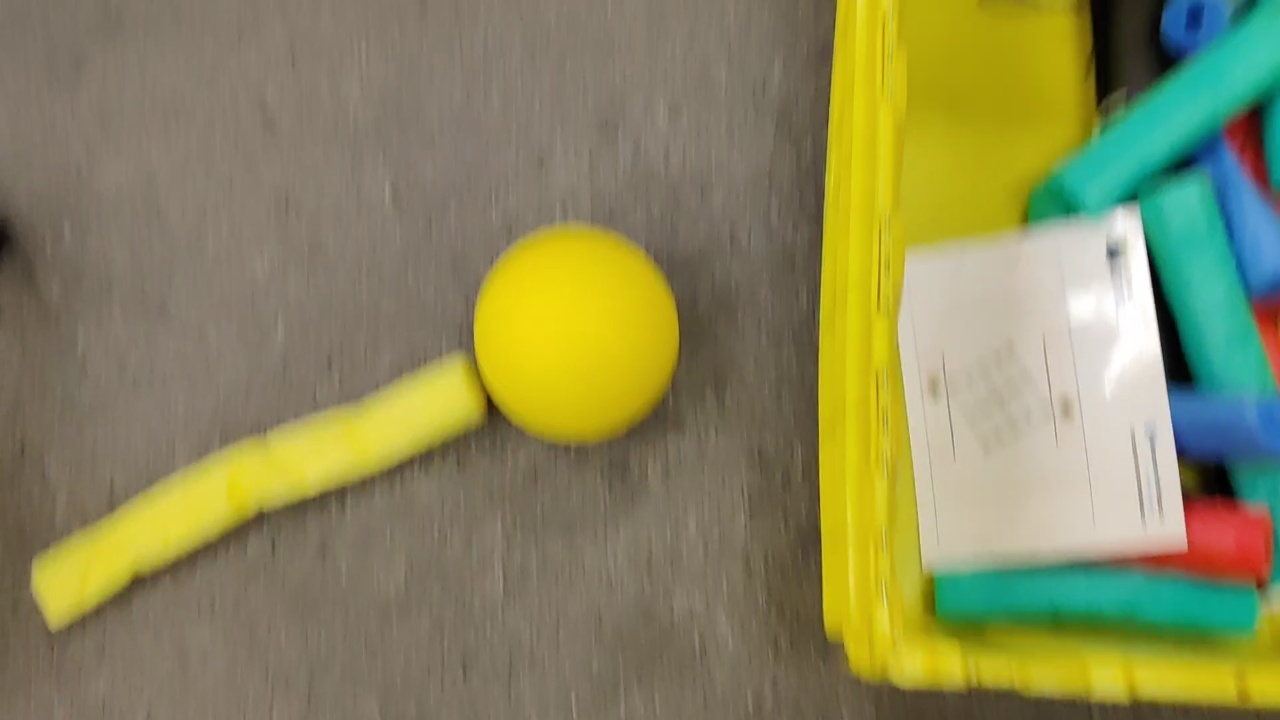Ball: (460, 221, 682, 444)
